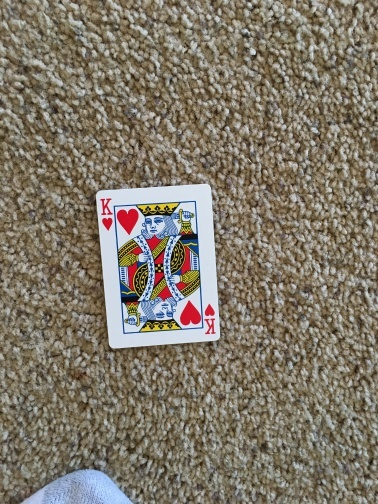king: (93, 185, 225, 349)
